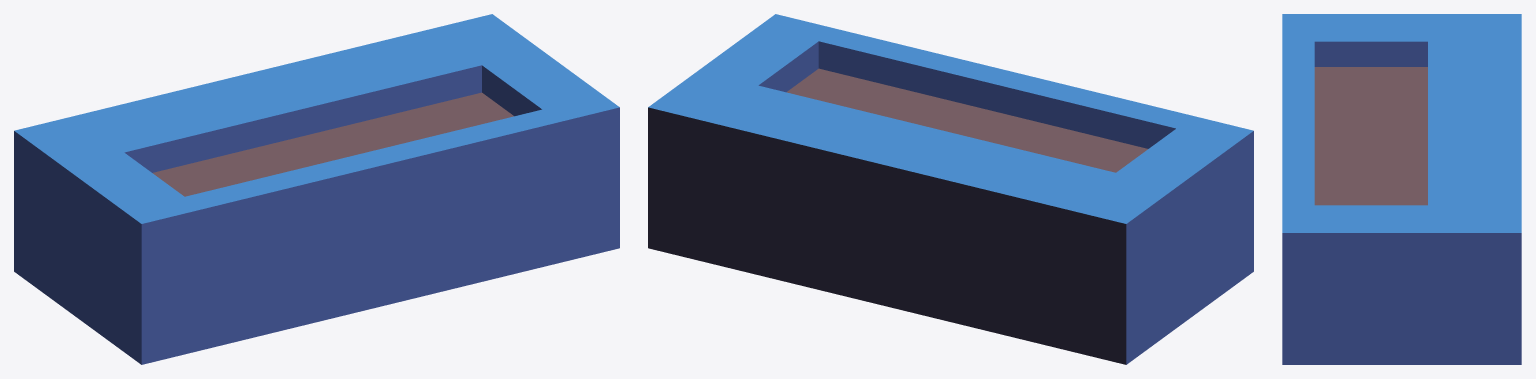
File: PlanterBox_Blue01.glb
The picture shows the model from 3 angles, left to right: view 1: azimuth 30°, elevation 25°; view 2: azimuth 150°, elevation 25°; view 3: azimuth 270°, elevation 25°; orthographic projection. The views are drawn at different scales.
Visible parts, largest first — view 1: PlanterBox_Blue01; view 2: PlanterBox_Blue01; view 3: PlanterBox_Blue01.
Boxes of the visible parts, box(x1,y1,x2,y2) form: PlanterBox_Blue01: box(14, 14, 619, 364); PlanterBox_Blue01: box(648, 14, 1253, 364); PlanterBox_Blue01: box(1282, 14, 1521, 364).
Bounding box in the file's own units: 0.9727 × 0.2738 × 0.4494.
1 material, 1 textured.
